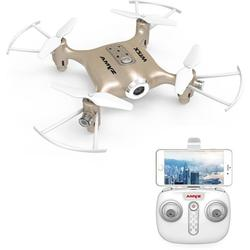drone: (6, 1, 244, 157)
